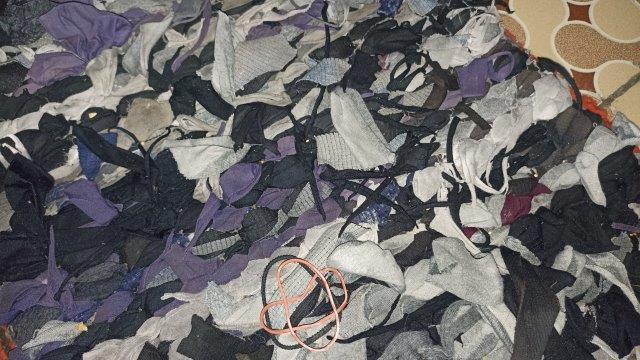karet: (259, 254, 348, 352)
